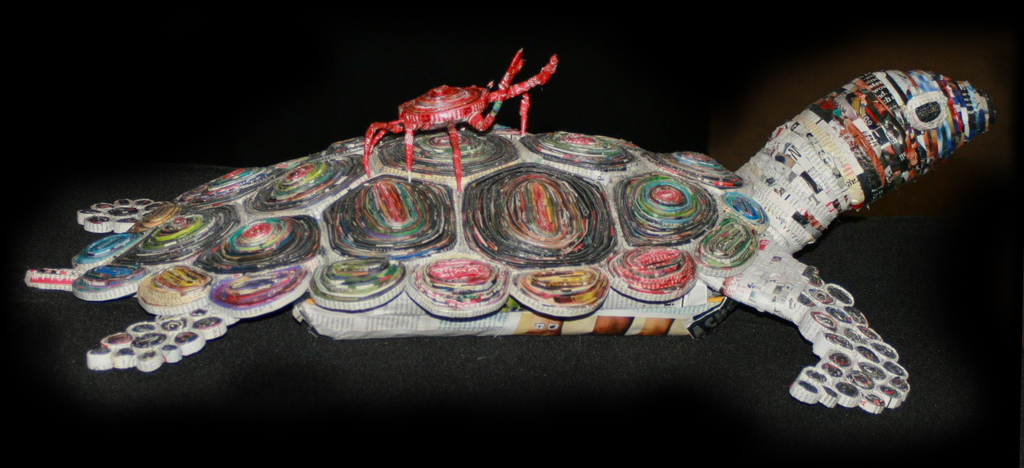Sea turtles: (23, 65, 1003, 417)
